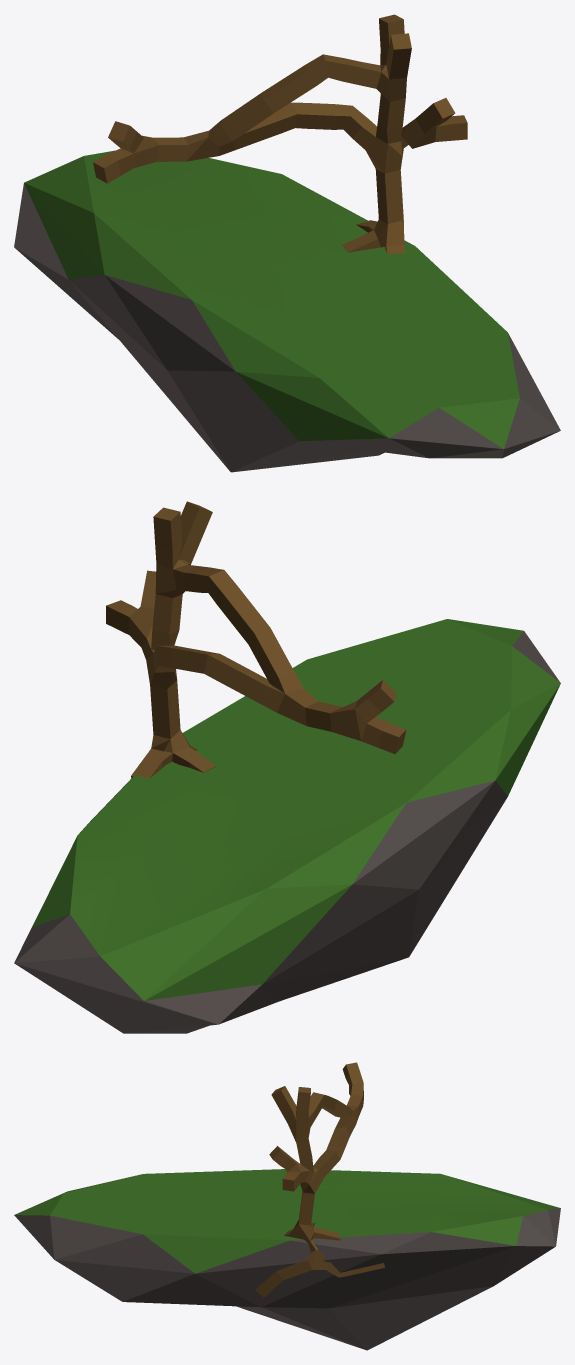
The model's file is SlideIsland.fbx.
3 views of the same model, one above another, from view 1: azimuth 30°, elevation 25°; view 2: azimuth 150°, elevation 25°; view 3: azimuth 270°, elevation 25° (orthographic). The views are drawn at different scales.
Parts seen in each view (by area): view 1: Icosphere, Plane; view 2: Icosphere, Plane; view 3: Icosphere, Plane.
Part boxes in pixels (<box>): Icosphere: <box>14,150,560,472</box>; Plane: <box>93,14,467,253</box>; Icosphere: <box>14,619,560,1033</box>; Plane: <box>106,501,406,778</box>; Icosphere: <box>14,1169,560,1350</box>; Plane: <box>255,1062,384,1297</box>.
Bounding box in the file's own units: 1008 × 1288 × 2261.
